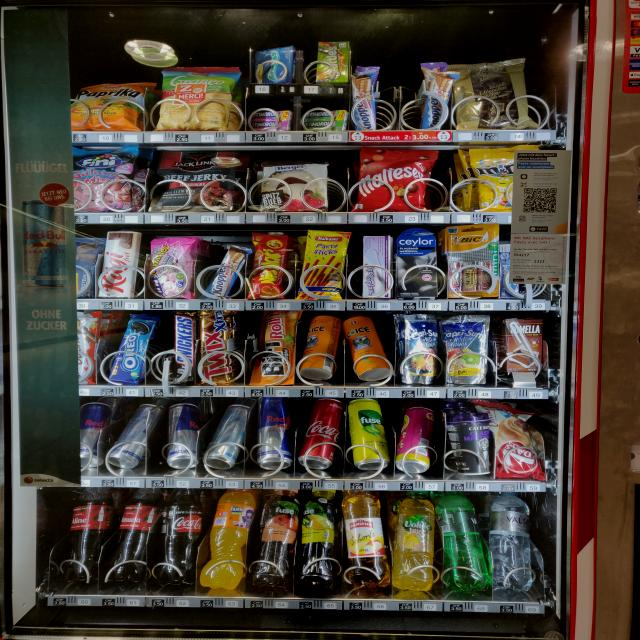7days_croissantschoko_packung_80_1_0000000000003: (492, 406, 538, 478)
airwaves_menthoneucalyptus_riegel_14_1_50173167: (248, 46, 296, 88)
bifi_roll__50__4251097402635: (248, 310, 299, 386)
c-swiss_dosenabisicetea__33__9120025930135: (343, 313, 400, 382), (300, 312, 344, 380)
caferoyal_classicmacchiato__33__7617014164487: (448, 408, 497, 476)
caprisun_multivitamin__20__4000177605004: (444, 314, 494, 385), (399, 315, 442, 386)
coke__dose_33__54491472: (300, 398, 344, 471)
coke__flasche_50__54491472: (58, 484, 119, 580), (106, 488, 162, 582)
coke_zero_flasche_50__5449000131836: (155, 488, 211, 588)
comella_schokodrink__33__7613100037253: (499, 316, 546, 375)
fanta___50__40822938: (202, 490, 259, 590)
fini_galaxymix_packung_100_1_8410525150364: (75, 142, 144, 213)
fini_jellykisses_packung_80_1_8410525116704: (145, 235, 200, 303)
fuse_lemon__50__5449000235947: (296, 489, 342, 589)
fuse_lemon_dose_33__5449000235947: (349, 398, 388, 474)
fuse_peach__50__5449000236623: (249, 489, 300, 596)
jacklinks_beefjerkyorginal__25__4047751730219: (149, 148, 249, 213)
jlbrichard_gauffrechoko__90__5410495002079: (448, 57, 532, 129)
kagi___50__7610046000259: (96, 228, 144, 298)
knoppers_riegel____4035800488808: (205, 243, 248, 299)
lorenz_nicnacs__40__4018077798818: (247, 227, 294, 302)
malburner_partysticks__40__7610200279682: (295, 225, 352, 303)
maltesers___100__5000159023061: (352, 145, 442, 213)
mnms_gelb__45__40111445: (471, 144, 543, 213)
oreo___66__84100733: (108, 314, 156, 384)
powerbar_proteinplusschoko__55__4029679520028: (68, 235, 102, 300)
ramseier_schorle__50__7610057012456: (343, 492, 388, 592)
redbull___33__90162909: (105, 402, 160, 470), (252, 395, 298, 472), (163, 405, 205, 471), (74, 403, 108, 466)
redbull_light__33__90162800: (202, 406, 251, 470)
skittles_sour_riegel_51_1_0000000000004: (316, 38, 354, 85)
snickers___50__5000159461122: (169, 312, 197, 382)
stimorol_spearmint_riegel_14_1_0000000000005: (306, 110, 346, 130)
stimorol_wildcherry_riegel_14_1_57060330: (252, 108, 294, 130)
tiki_himbeer_brause__50__00000000009342: (393, 402, 440, 472)
twix___50__5000159459228: (191, 310, 240, 387)
valser_classic__50__76404160: (443, 491, 488, 594)
valser_still__50__7610335002575: (484, 493, 534, 595)
volvic_pinapple__50__305764335648: (389, 494, 438, 592)
zweifel_graneochilli__100__7610095184009: (151, 61, 249, 133)
zweifel_paprika__90__7610095013002: (70, 82, 153, 132)
